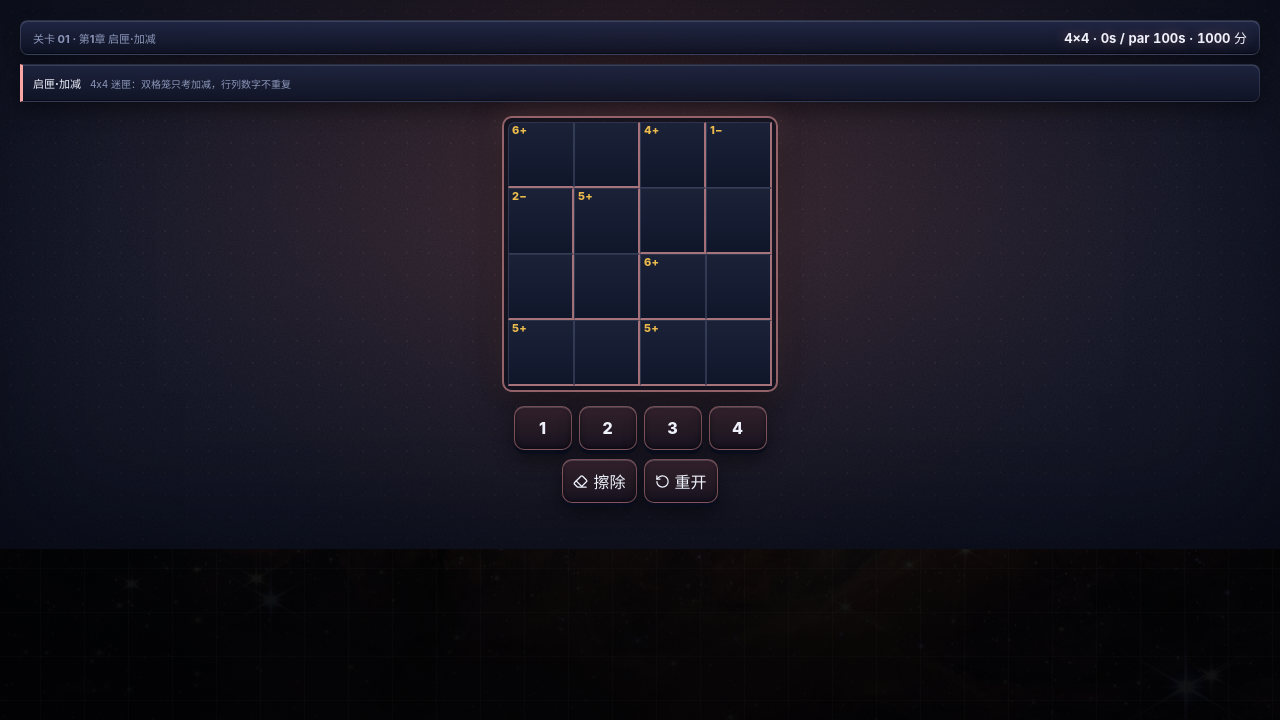
Test: calc casket game › announces readiness, renders the board and fills digits by click
This screenshot has width=1280, height=720.
Expected: the 1st text with class "casket-clue" is shown, [512,124,527,136]
Click the 1st button with class "casket-cell": (541, 155) [508,122,574,188]
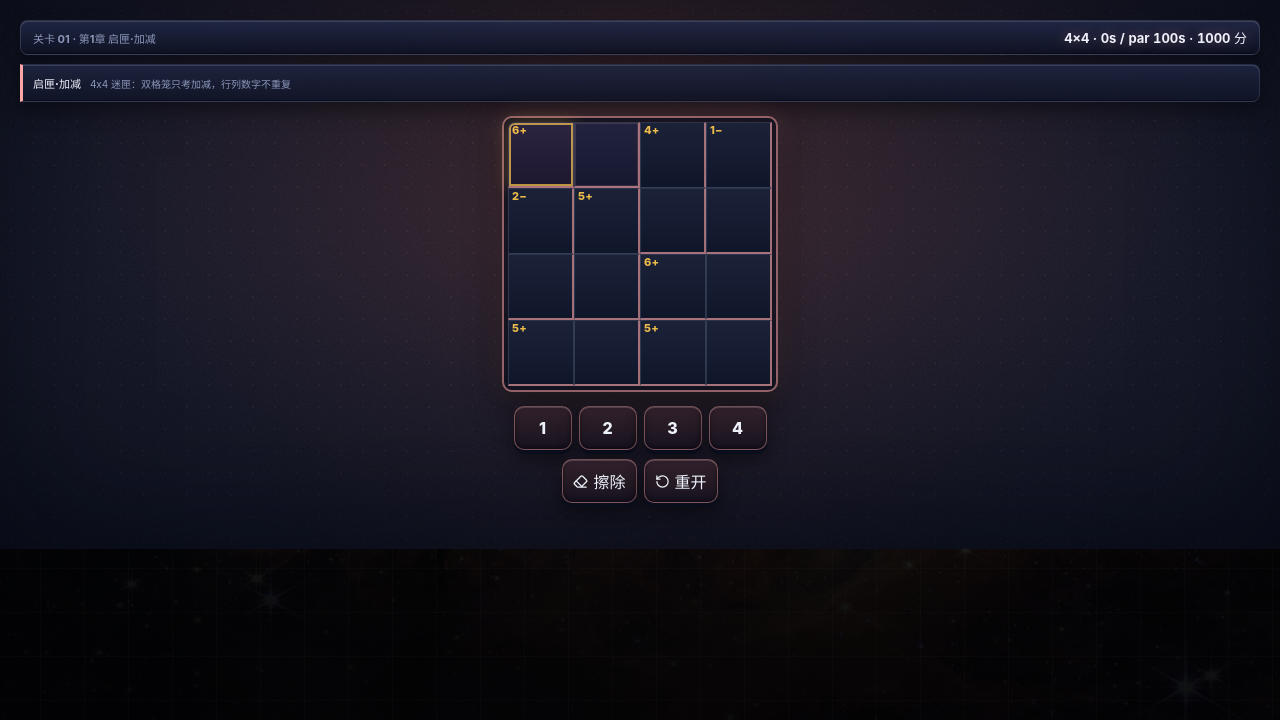
Click the button with class "casket-key" showing "2": (608, 428) [578,406,636,450]
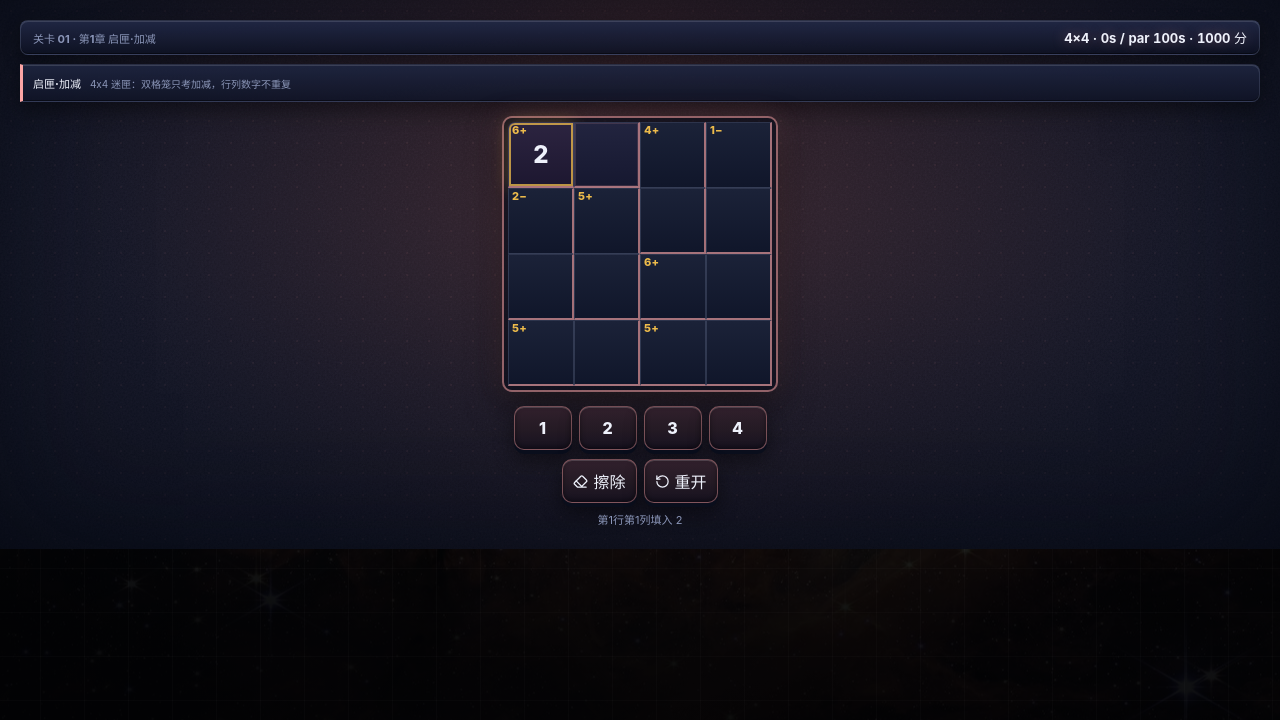
Expected: the button with class "casket-cell" shows "2", [508,122,574,188]
Expected: the text with class "casket-live" reads "第1行第1列填入 2", [598,513,682,527]
Click the button "擦除": (600, 481) [562,459,636,503]
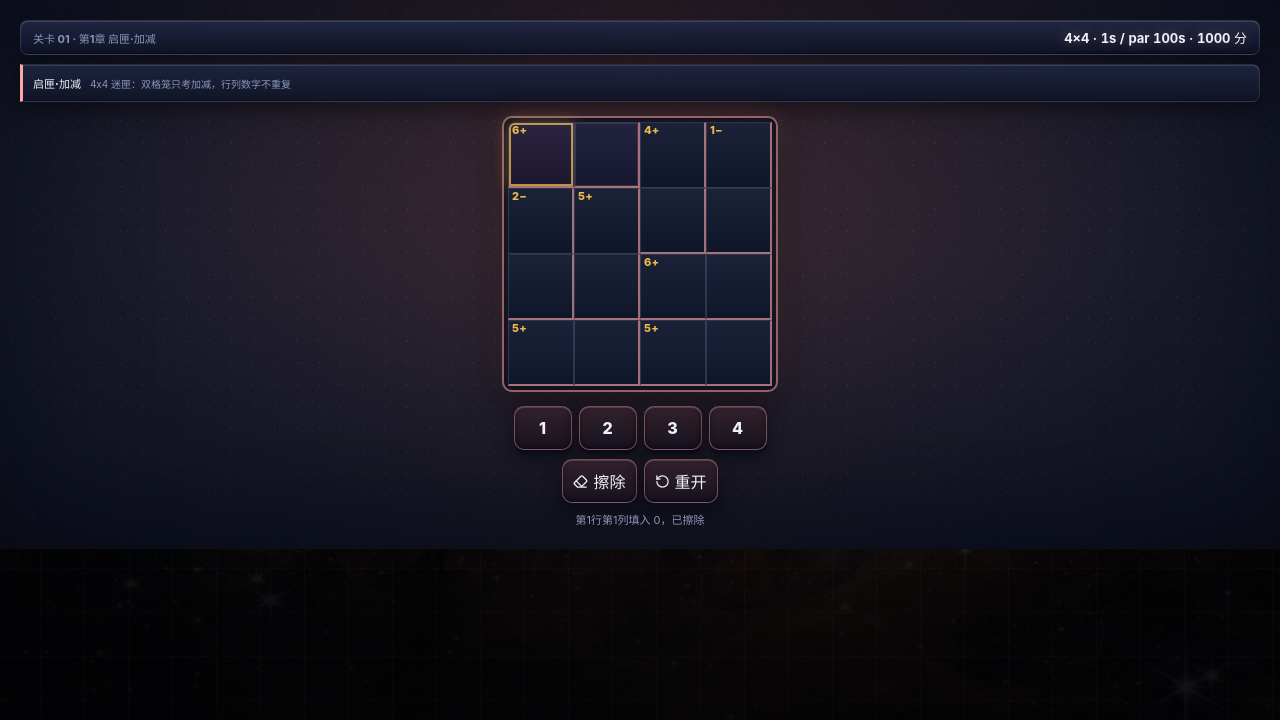
Expected: the text with class "casket-live" shows "已擦除", [576,513,704,527]
